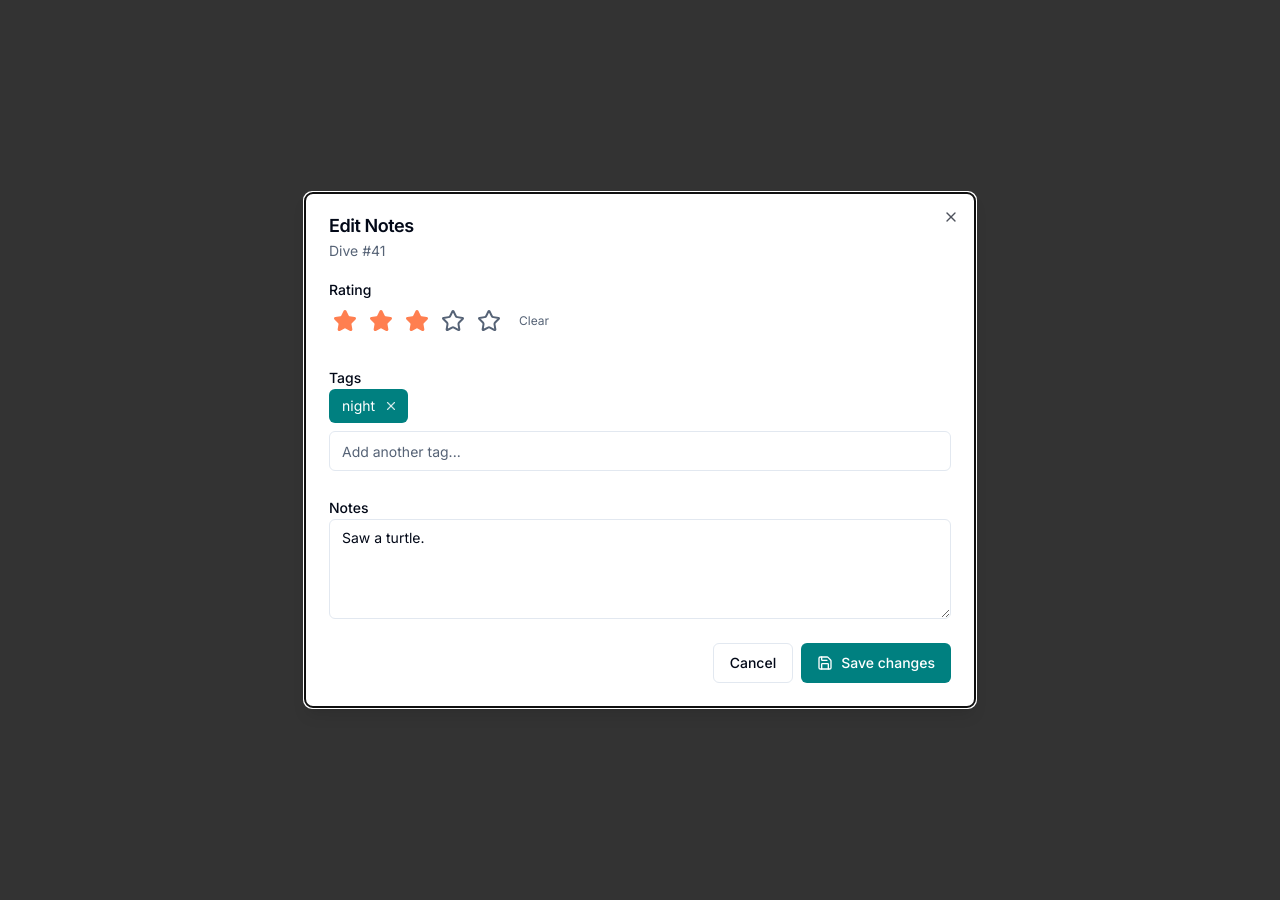
Test: a card's edit dialog › stays open and says why when the save fails
Click the button "Save changes". click: click(876, 663)
box: [801,643,951,683]
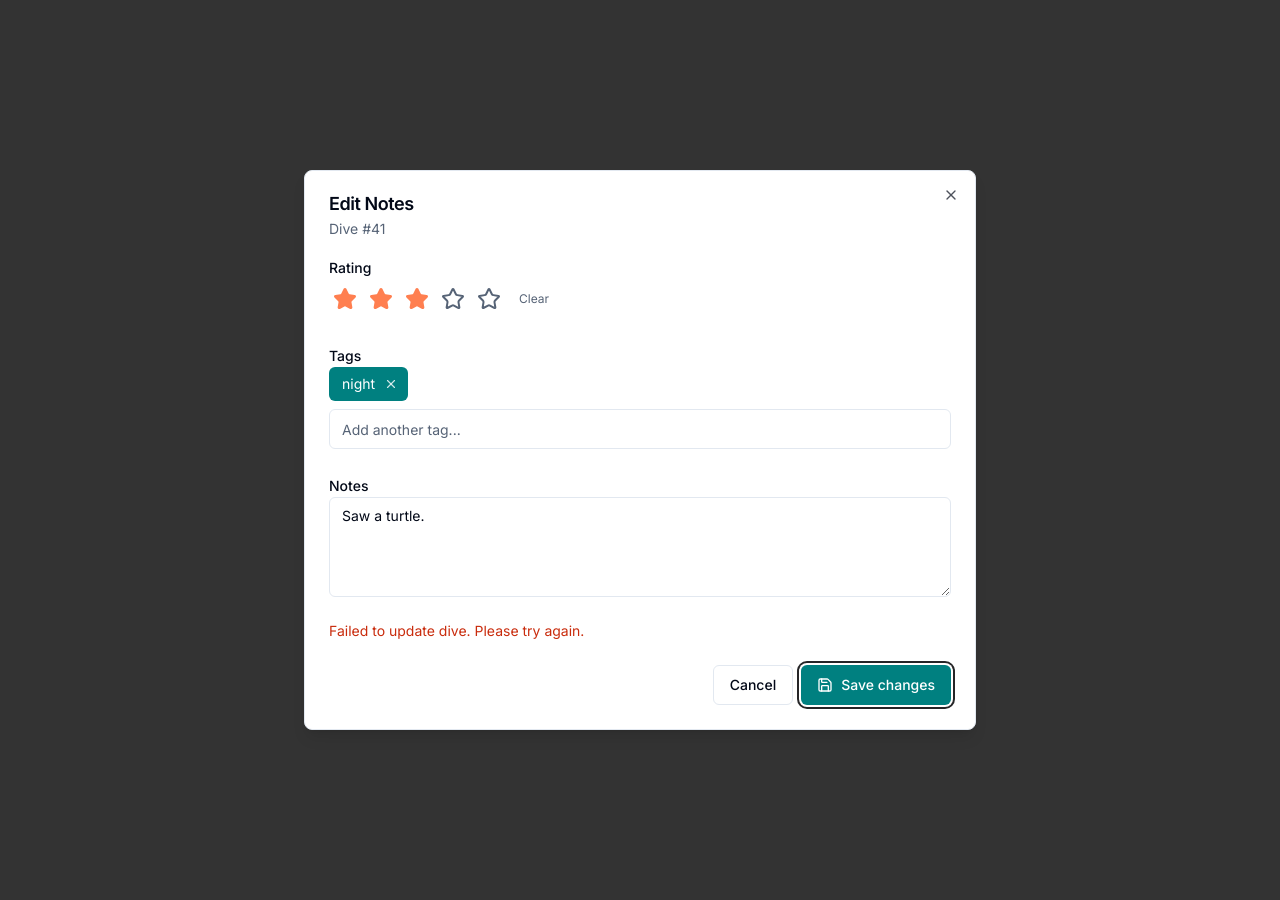
Expected: the text "Failed to update dive. Please try again." is shown, [329,622,584,639]
